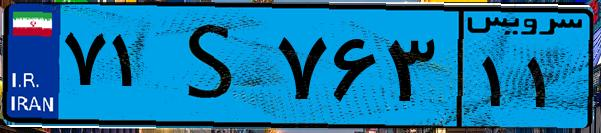1: (475, 38, 525, 113), (525, 38, 570, 115), (110, 28, 158, 98)
3: (385, 28, 445, 110)
6: (330, 28, 385, 110)
7: (270, 28, 330, 110), (57, 26, 110, 100)
S: (158, 12, 270, 120)
